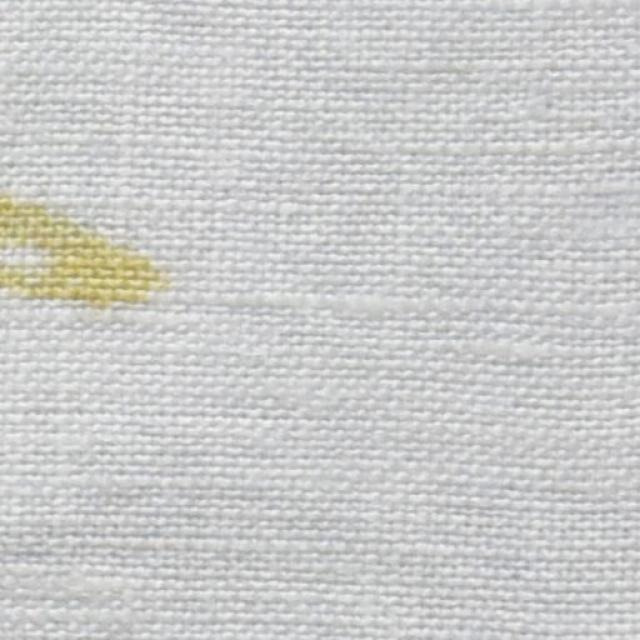Stain: (0, 178, 168, 308)
